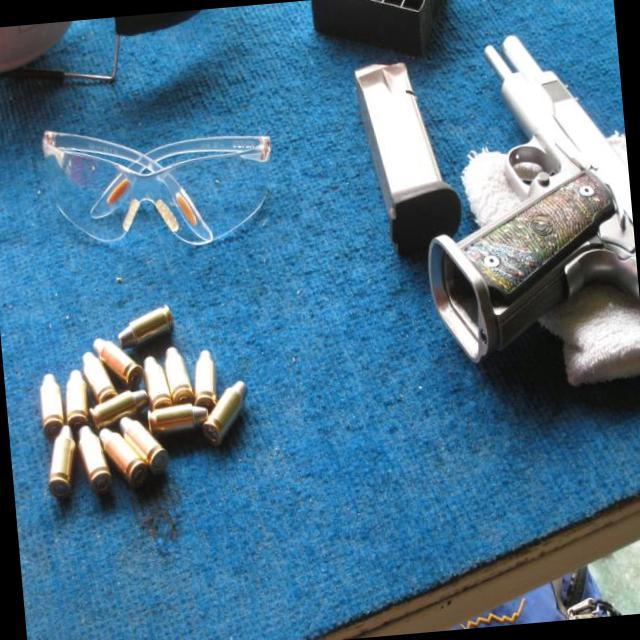Gun: (428, 35, 639, 361)
